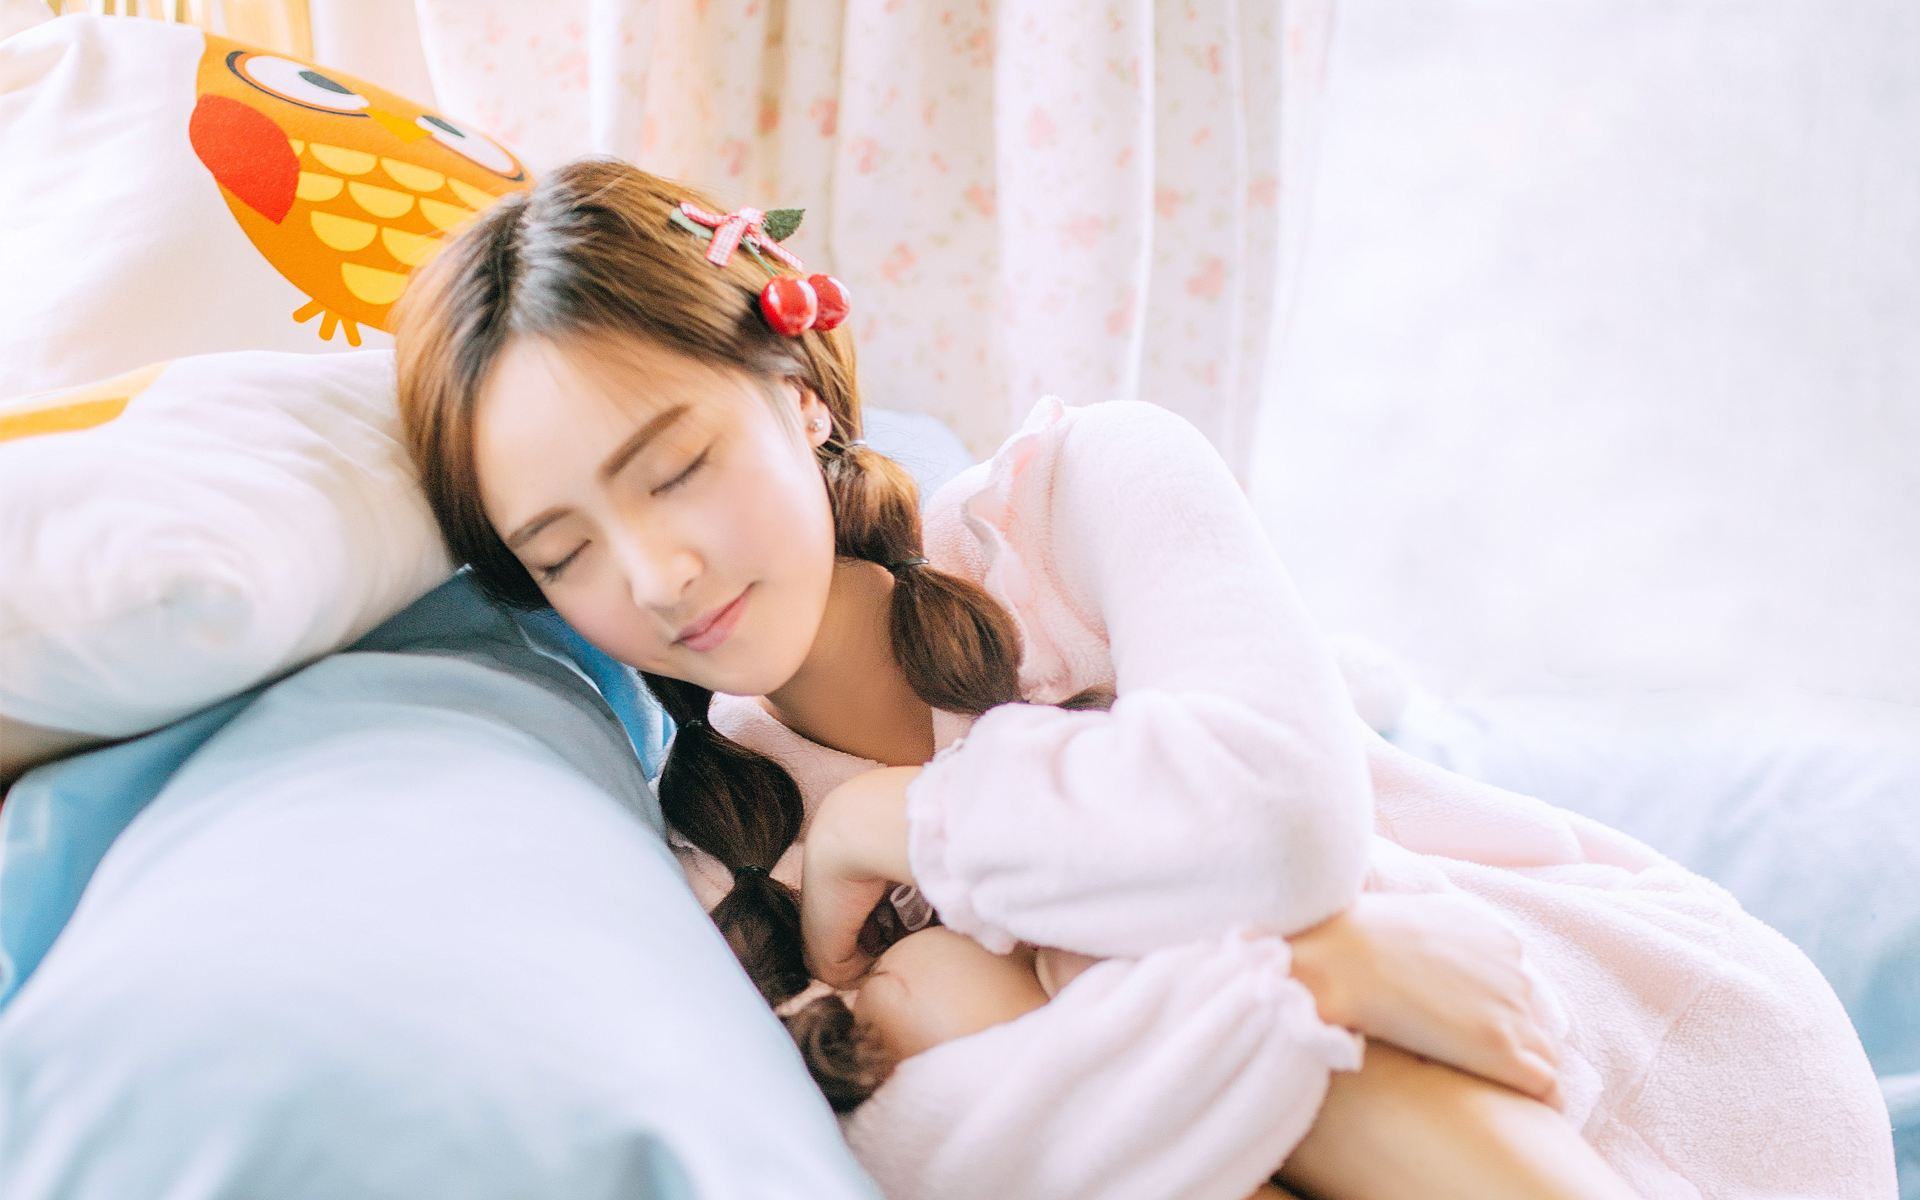person: (326, 133, 1232, 1056)
